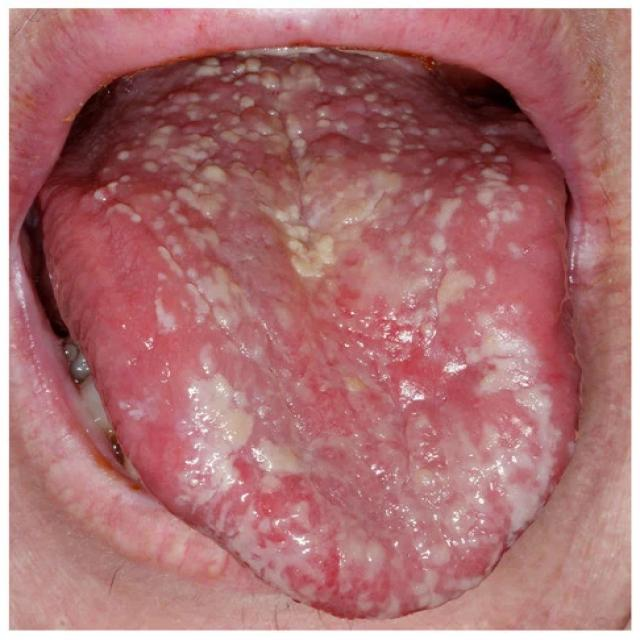Cancer: (109, 113, 573, 618)
